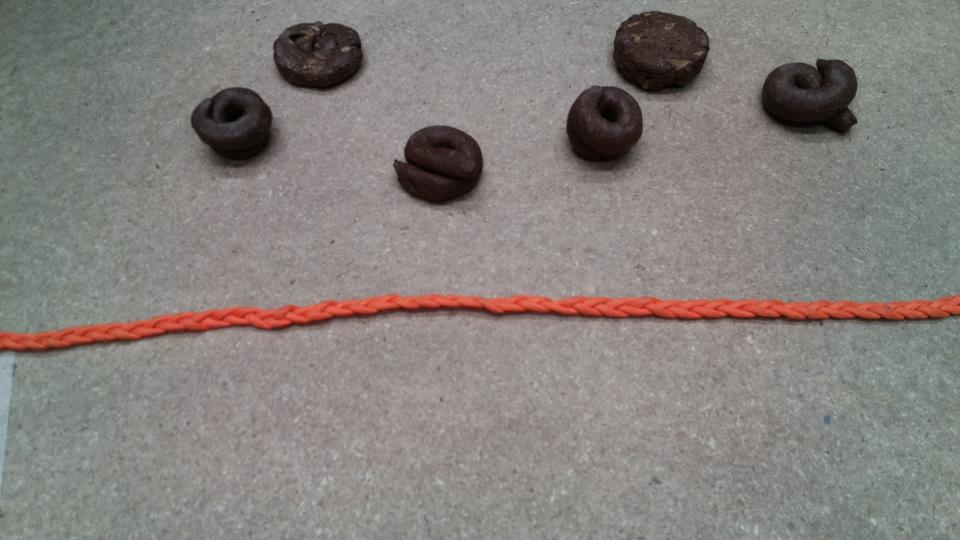poop: (260, 19, 380, 102), (757, 55, 867, 142), (610, 6, 714, 97), (185, 81, 285, 164), (391, 119, 486, 206), (561, 86, 653, 172)
rope: (341, 275, 960, 338), (5, 299, 361, 350)
